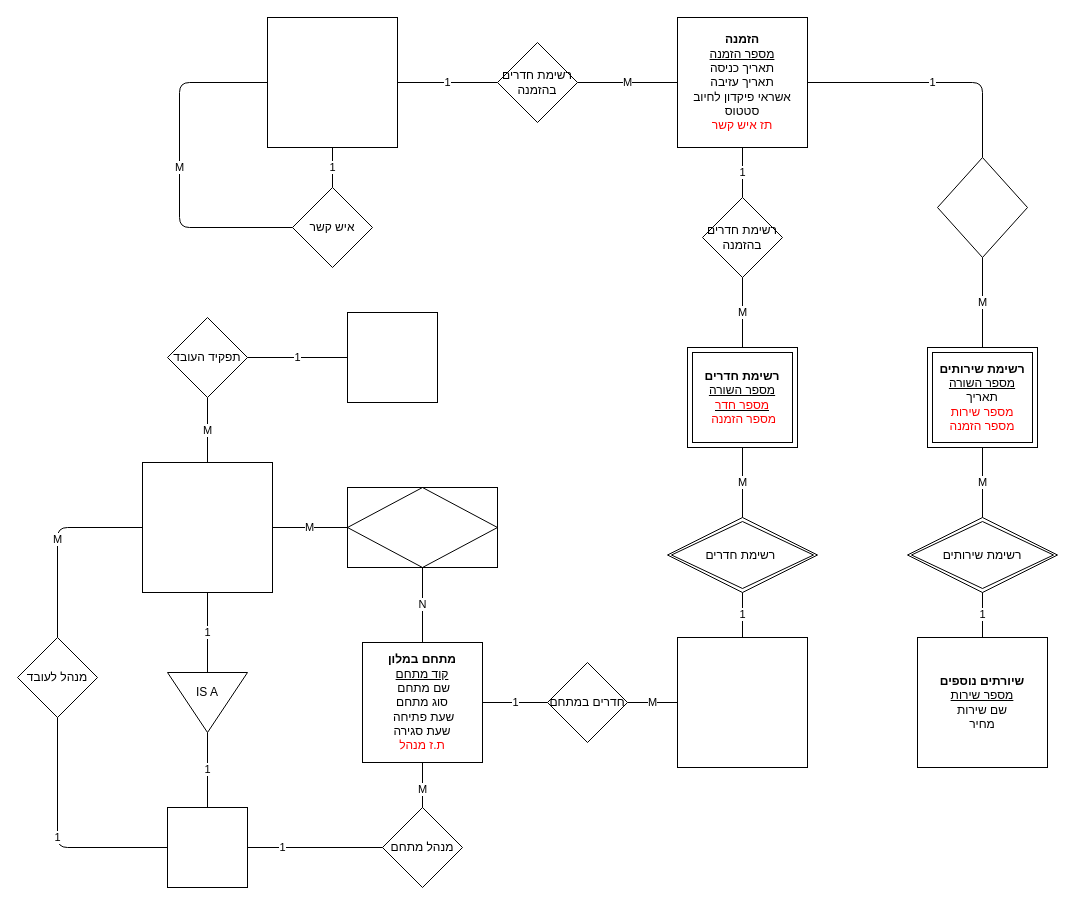
Some shapes in this 1075 by 905 pixel diagram are drawn without their labels. The box of each missing label's shape, as (x1, y1, x2, y2) in pixels:
אורח ת.ז לקוח שם פרטי שם משפחה טלפון איש קשר ת.ז איש קשר: (266, 16, 398, 148)
חדר מספר חדר סוג חדר מספר נפשות לחדר מחיר ללילה תיאור קוד מתחם: (676, 636, 808, 768)
מנהל ת.ז: (166, 806, 248, 888)
עובד במתחם קוד מתחם ת.ז עובד: (346, 486, 498, 568)
עובד ת.ז עובד שם פרטי שם משפחה תאריך לידה תאריך תחילת העסקה שם תפקיד ת.ז מנהל: (142, 462, 272, 592)
שירותעם נוספים בהזמנה: (936, 156, 1028, 258)
תפקיד שם תפקיד גובה שכר שעתי: (346, 312, 438, 402)
